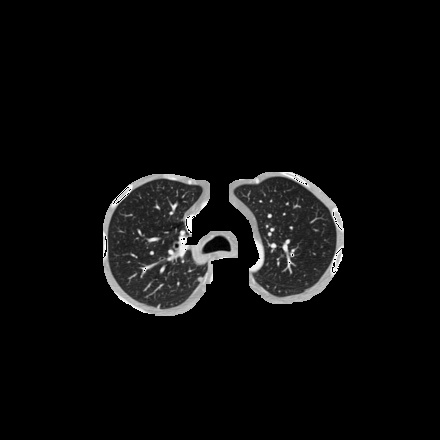PN: (197, 277, 201, 281)
